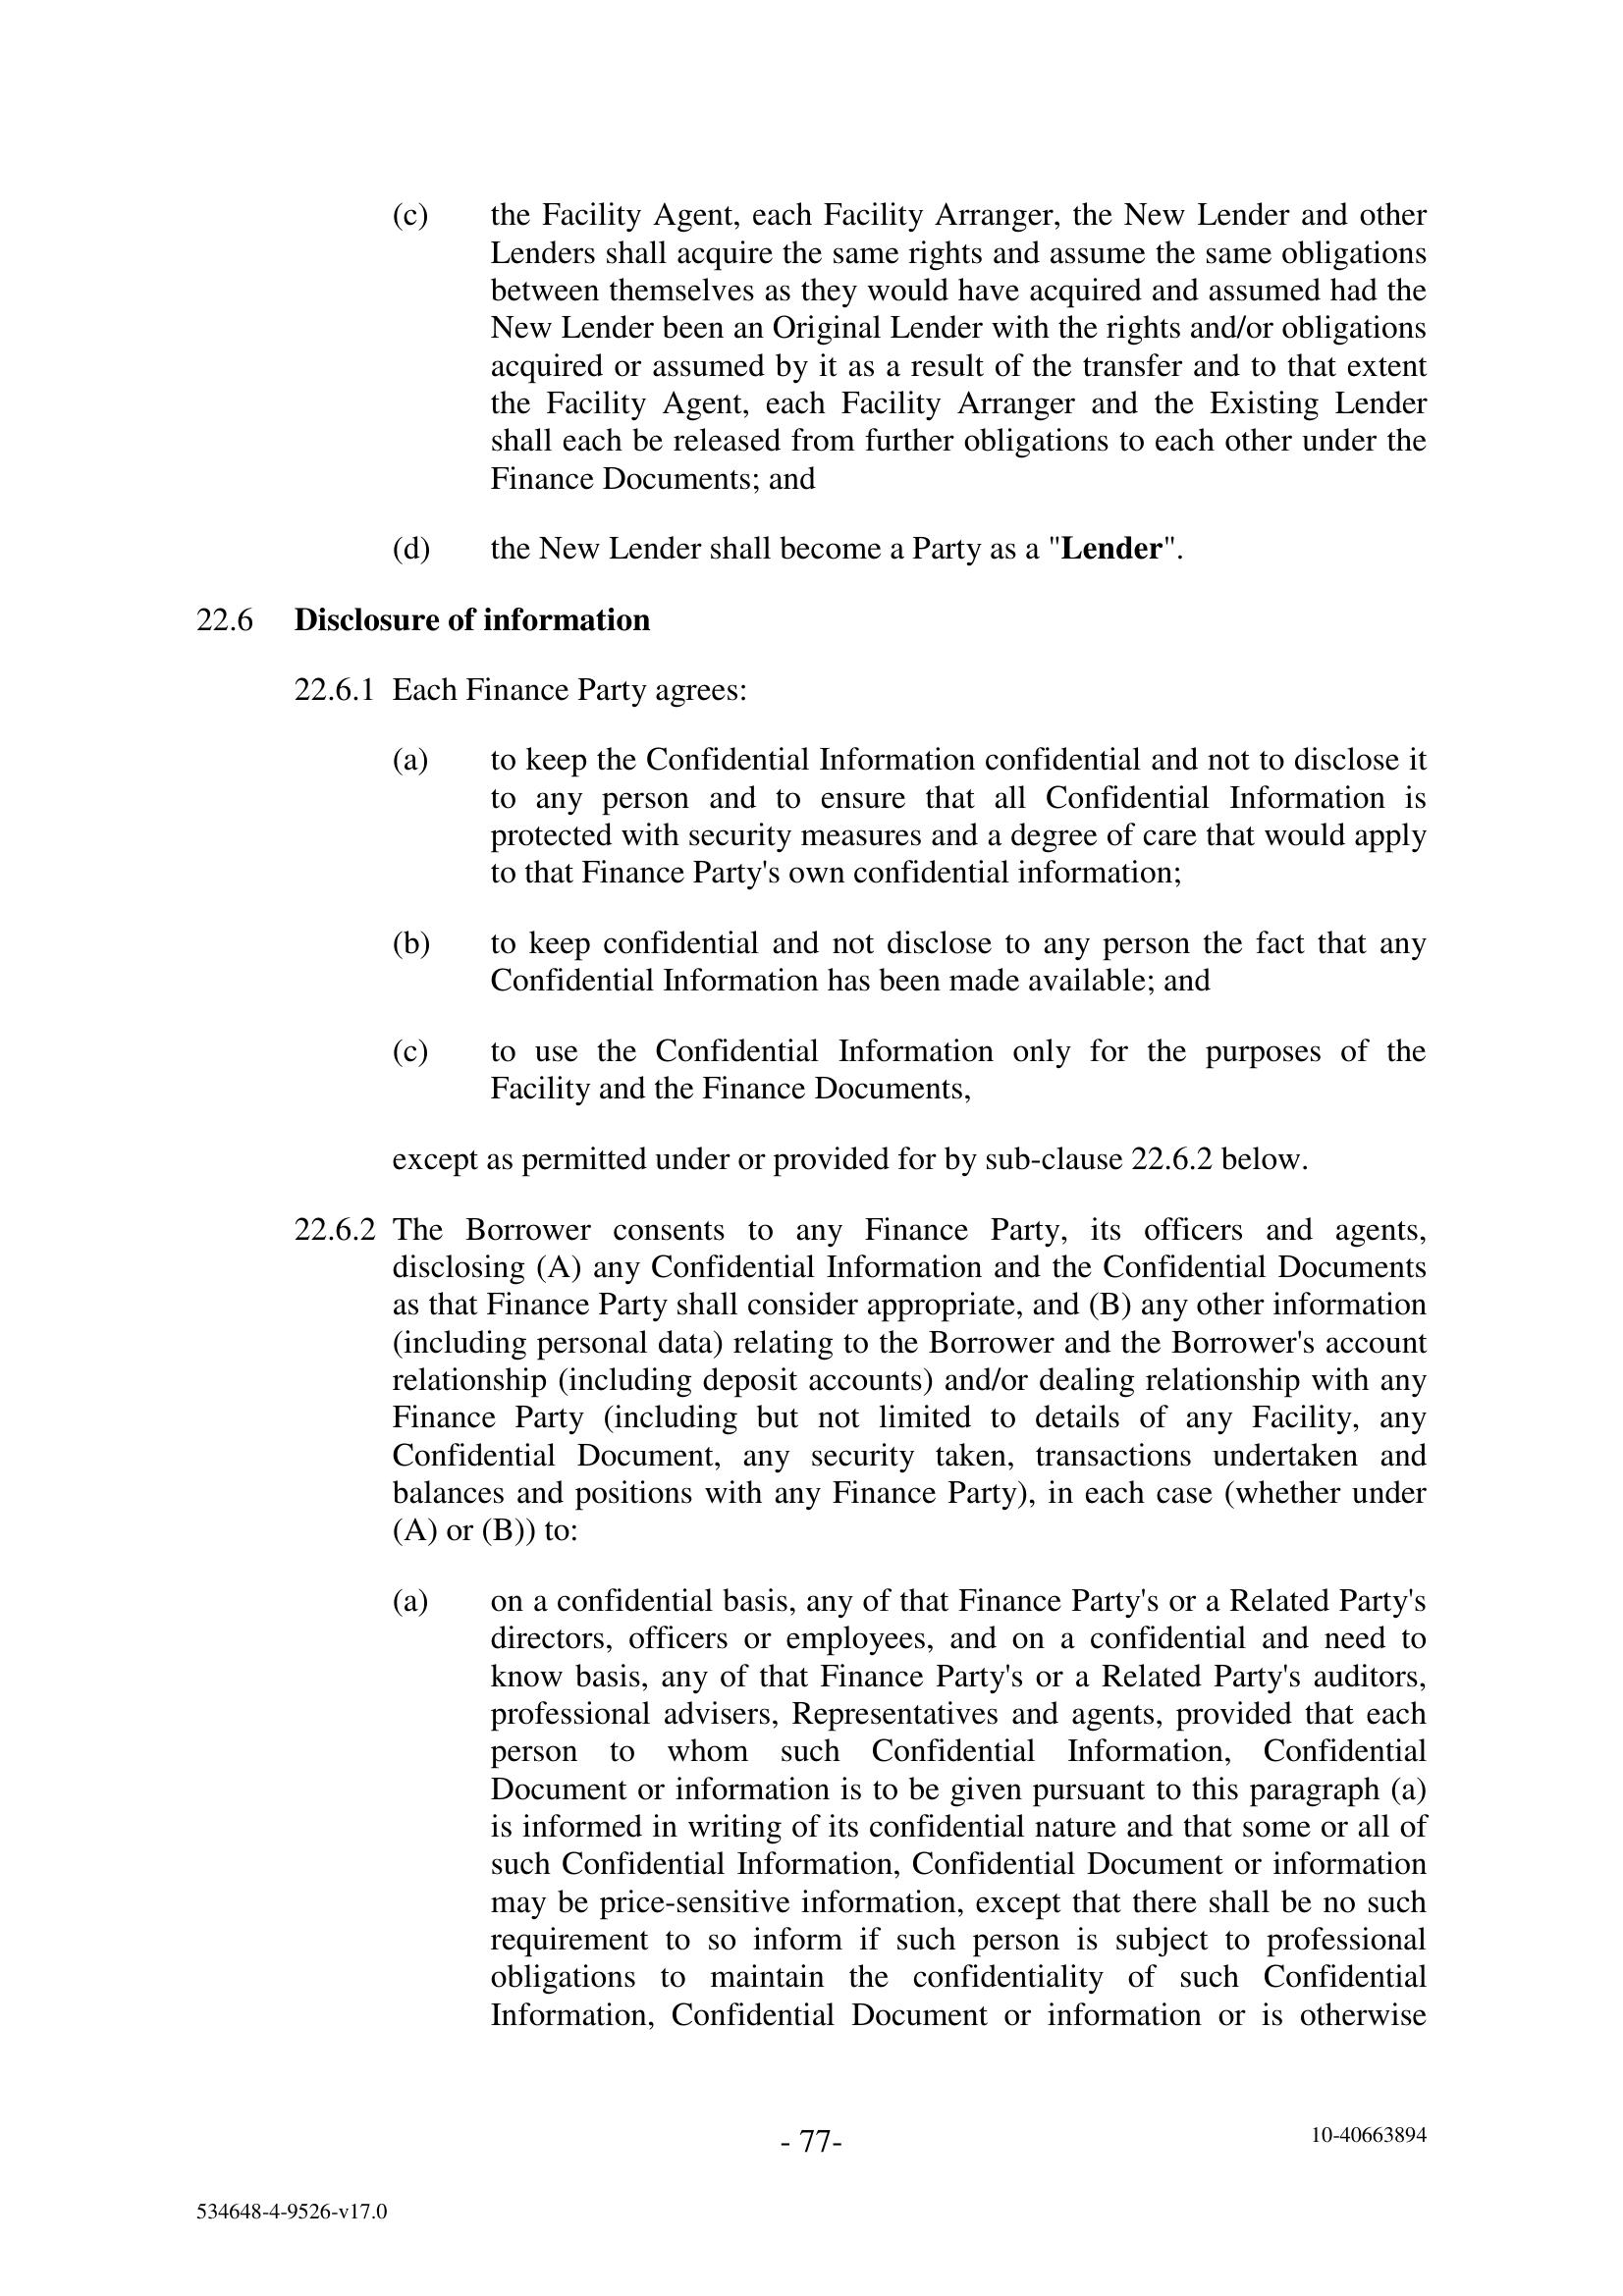pageno: (715, 2078, 901, 2213)
tag: (105, 2168, 485, 2270), (1179, 2085, 1528, 2185)
